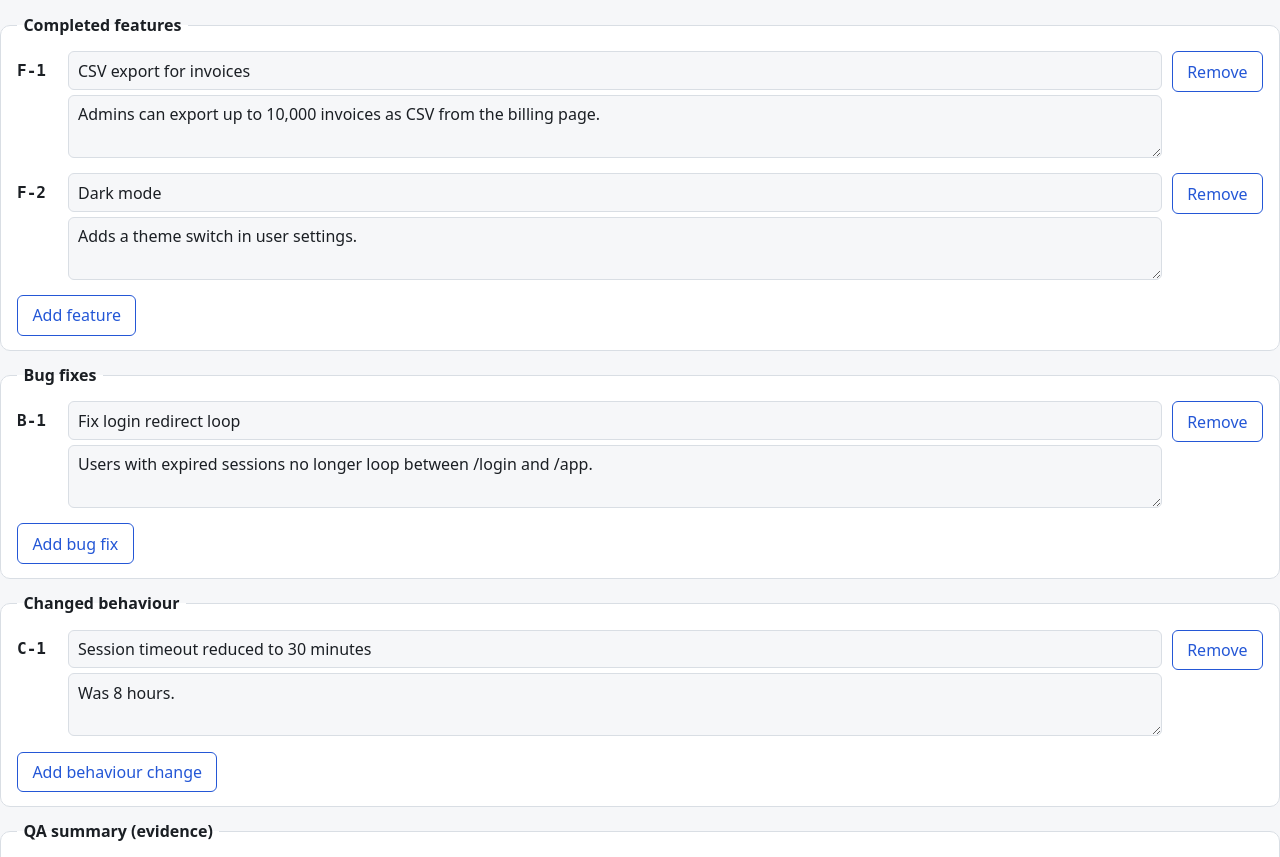
Test: PackageEditor › shows server validation problems under the Save button
The width and height of the screenshot is (1280, 857).
Step 1. Click the button "Add feature" → (77, 316), box x1=17 y1=295 x2=136 y2=336
(page scrolled)
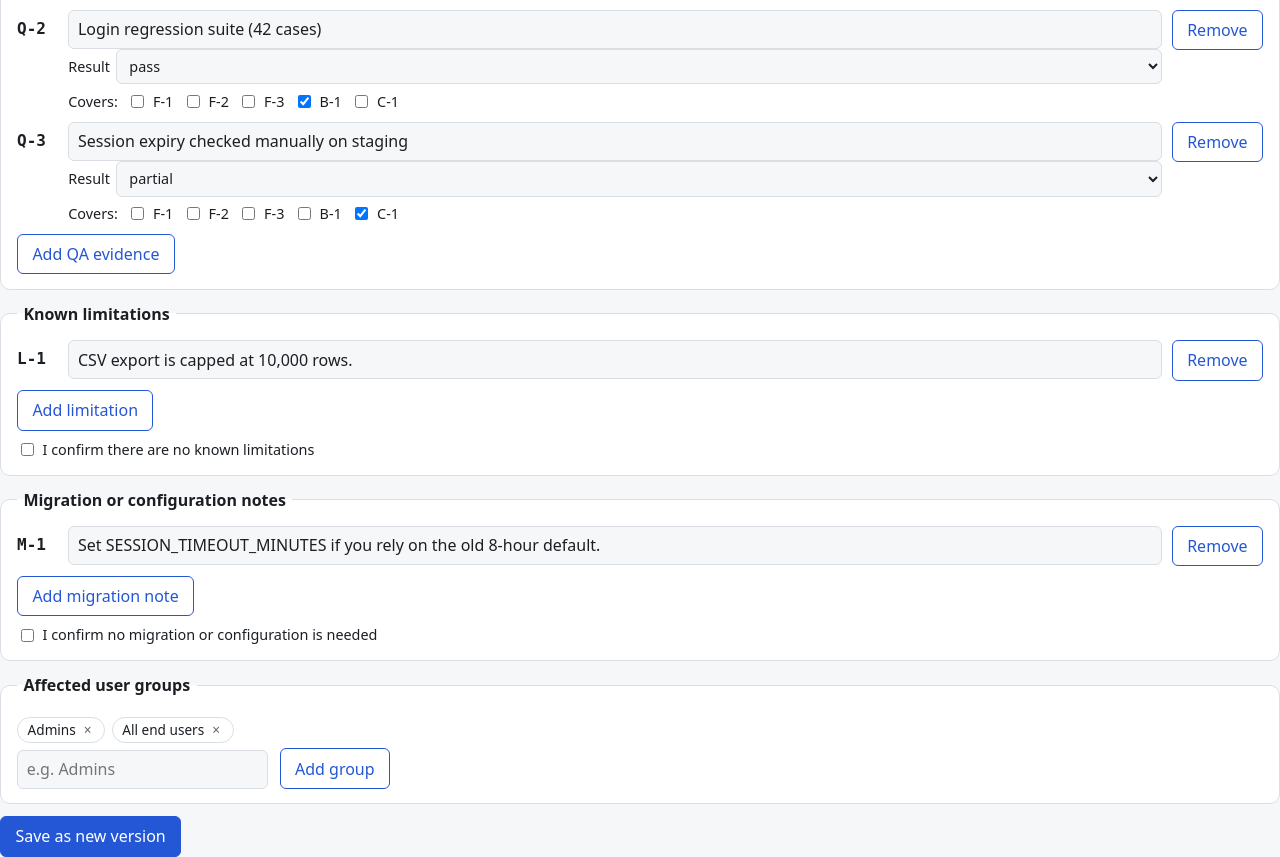
Step 2. Click the button "Save as new version" → (91, 836), box x1=0 y1=816 x2=181 y2=856
(page scrolled)
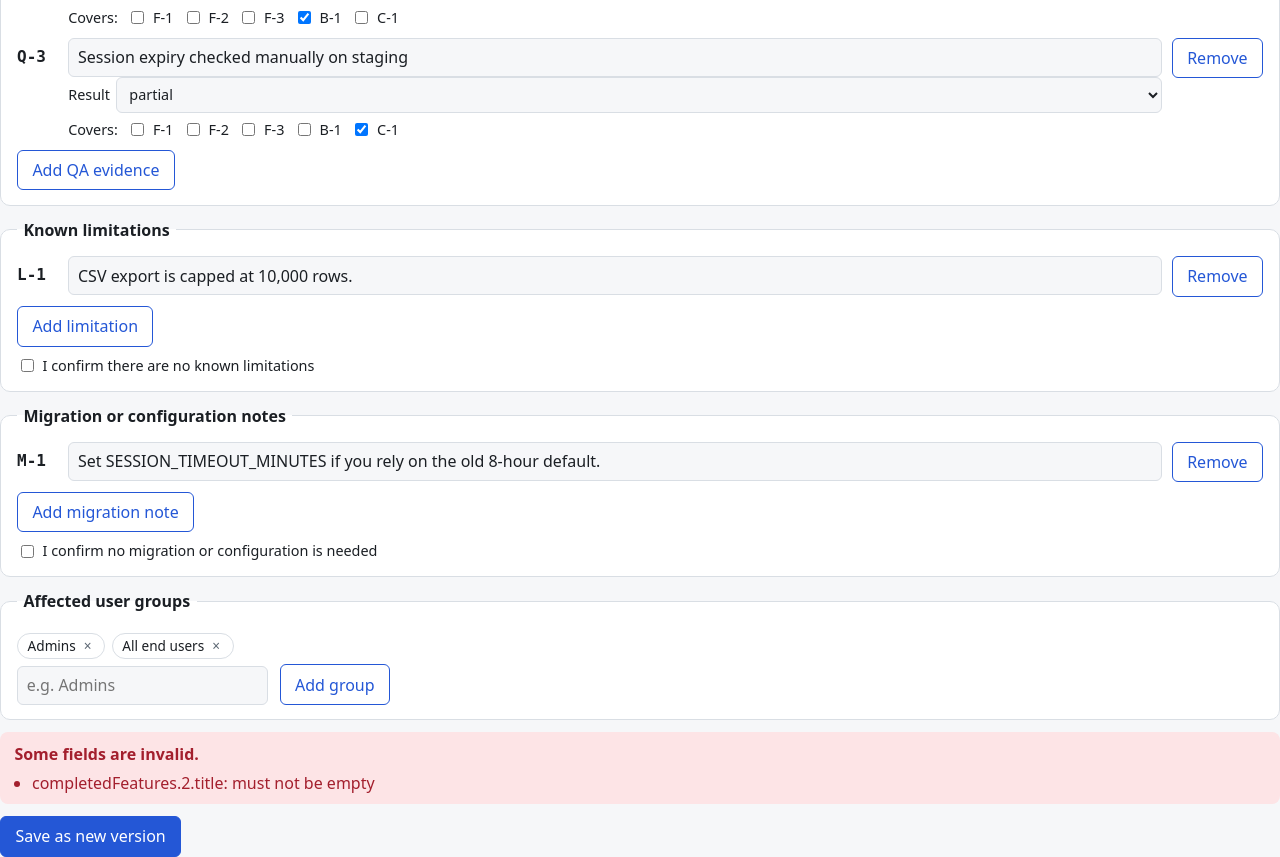
Result: the message shows "Some fields are invalid." at x1=14 y1=743 x2=199 y2=765
Result: the message shows "completedFeatures.2.title: must not be empty" at x1=32 y1=772 x2=375 y2=794
